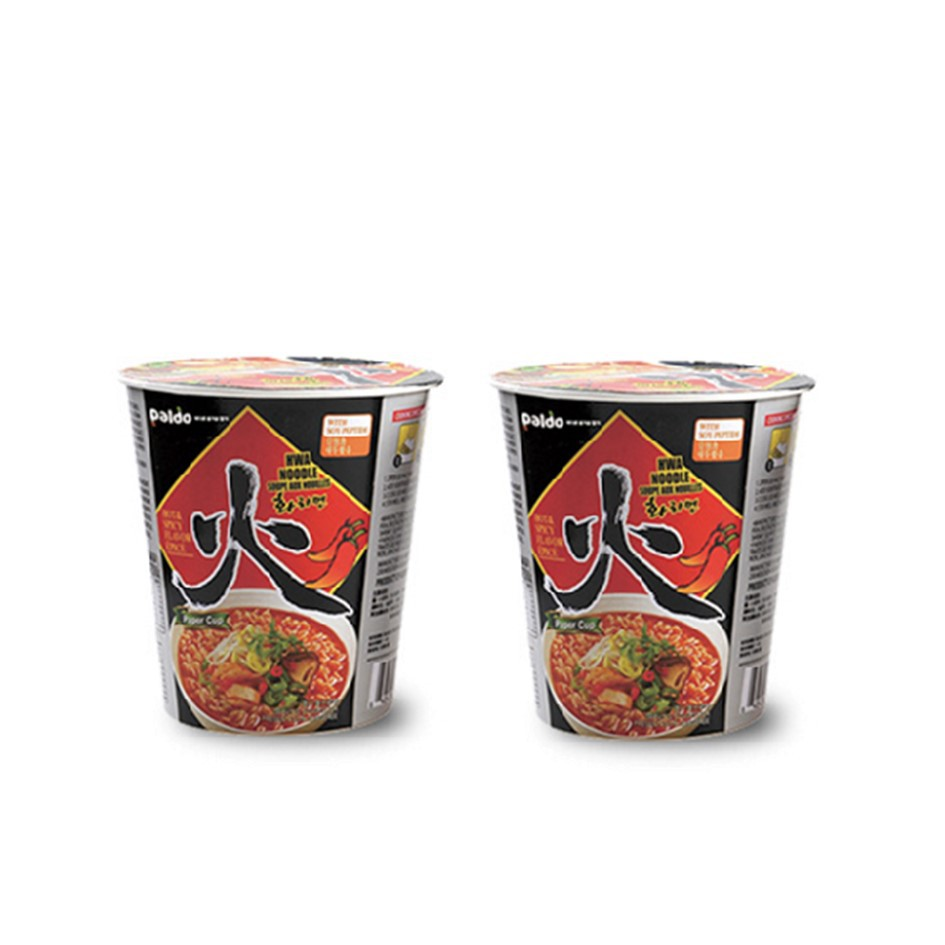PaperCup: (116, 350, 448, 743), (490, 356, 822, 744)
